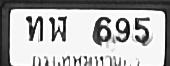5: (133, 15, 149, 44)
6: (93, 15, 111, 43)
9: (113, 16, 130, 42)
A23: (25, 15, 42, 41)
A42: (48, 15, 66, 41)
